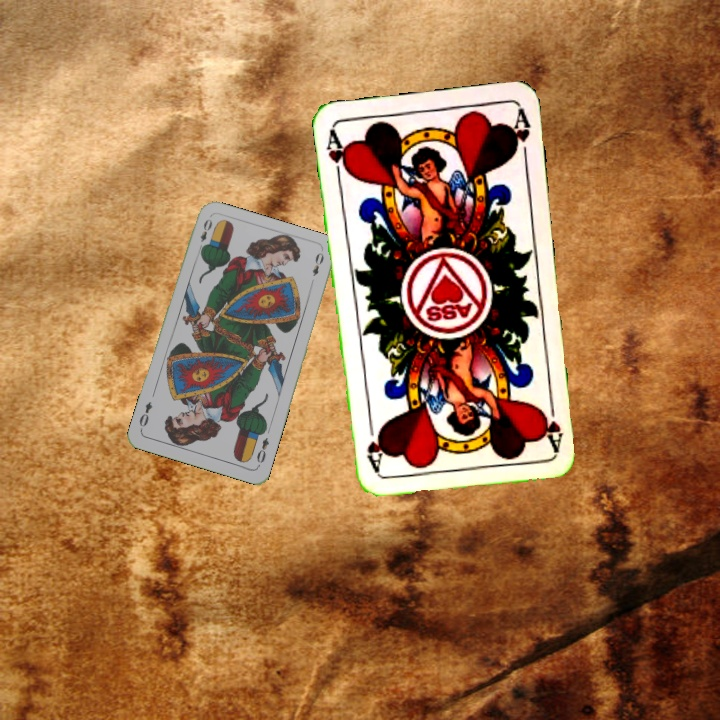EO: (194, 215, 215, 254), (253, 433, 272, 469)
HA: (322, 126, 352, 185), (539, 393, 566, 453)
